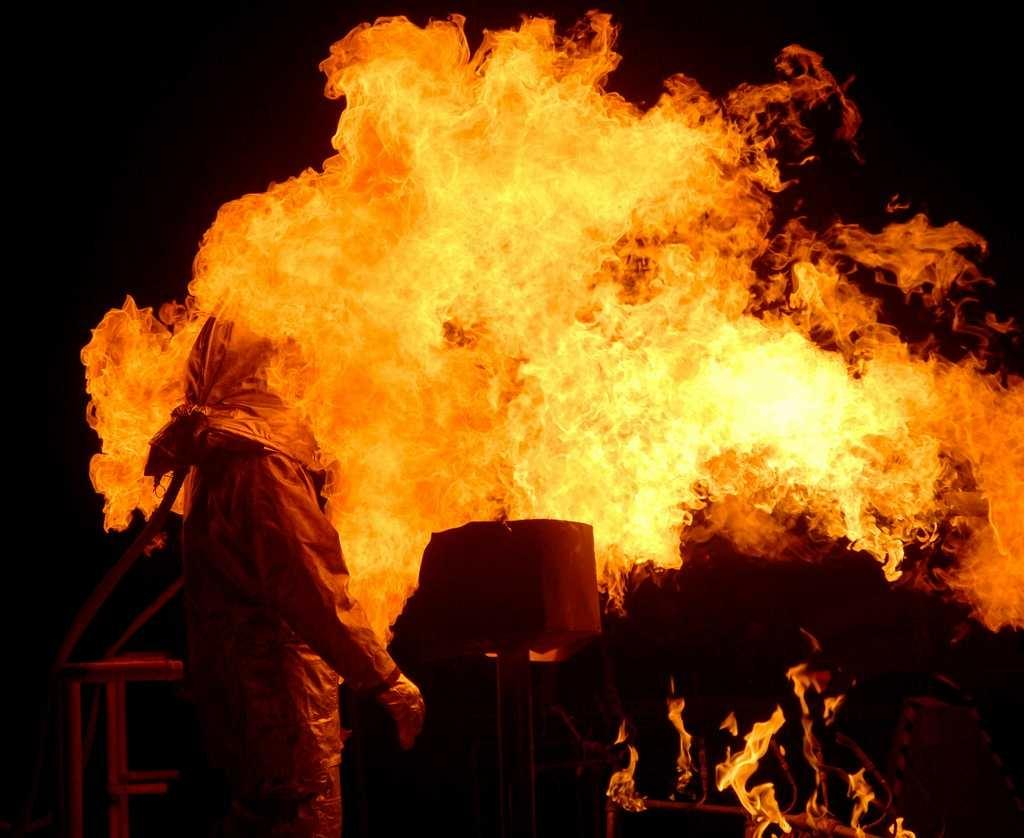fire: (366, 68, 576, 210), (212, 214, 466, 326), (328, 344, 476, 518), (516, 348, 676, 482), (712, 340, 852, 466), (604, 142, 704, 228)
